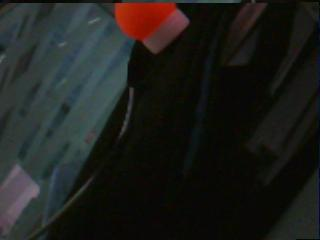oball: (115, 3, 176, 38)
